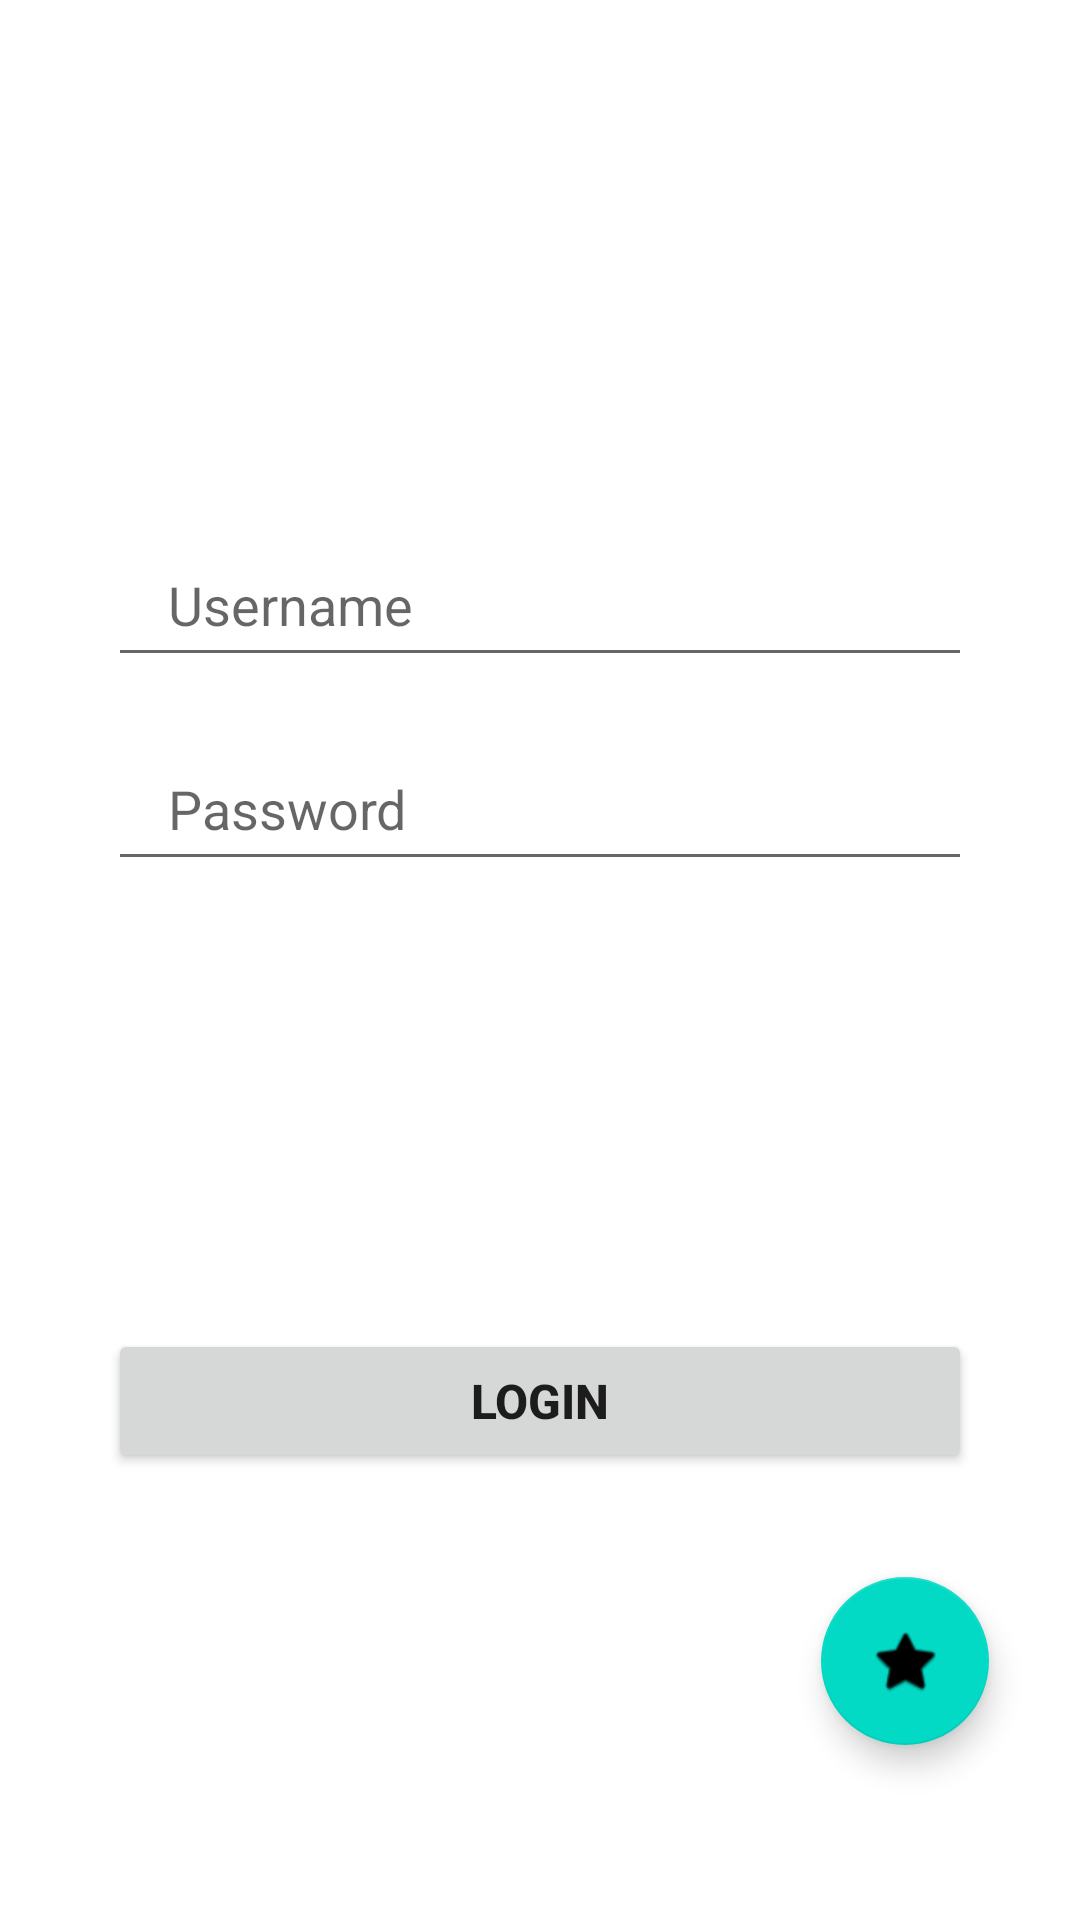

Named icons in this screenshot (1080×1920) and their bounding boxes, (x1, y1, x2, y2):
Floating Action Button: (821, 1577, 989, 1745)
